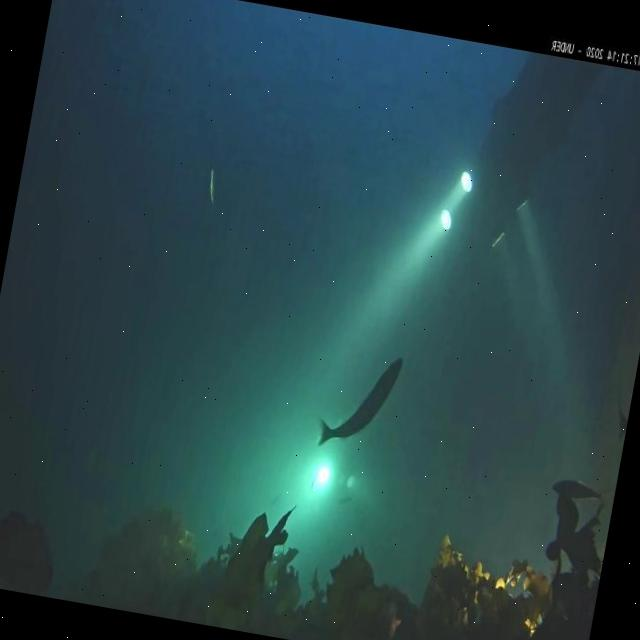fish: (314, 343, 404, 464), (547, 472, 605, 503), (203, 168, 220, 202)
